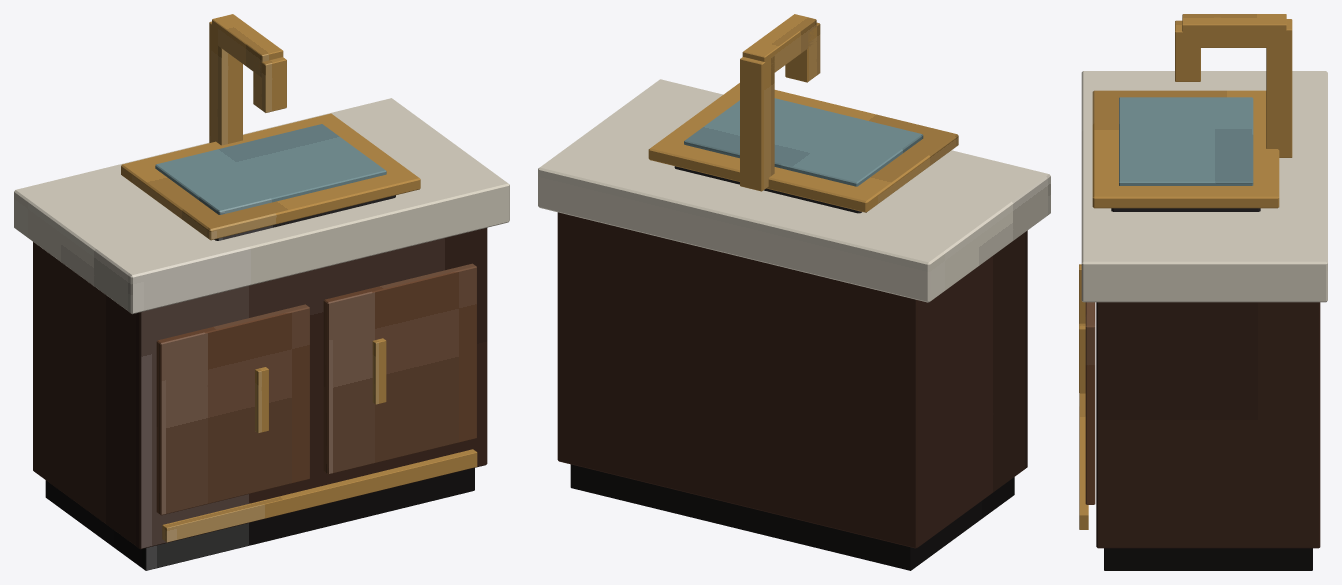
The model's file is luxury_kitchen_sink.glb.
The picture shows the model from 3 angles, left to right: view 1: azimuth 30°, elevation 25°; view 2: azimuth 150°, elevation 25°; view 3: azimuth 270°, elevation 25°; orthographic projection. The views are drawn at different scales.
Parts seen in each view (by area): view 1: SinkCabinet, SinkWorktop, CabinetDoor_2, CabinetDoor_1, BasinOpening, SinkRim, SinkPlinth, GoldPlinthTrim, FaucetPost, FaucetSpout, FaucetDrop, CabinetHandle_2 (+1 smaller); view 2: SinkCabinet, SinkWorktop, SinkPlinth, SinkRim, BasinOpening, FaucetPost, FaucetSpout, FaucetDrop; view 3: SinkCabinet, SinkWorktop, BasinOpening, SinkRim, SinkPlinth, FaucetPost, FaucetSpout, CabinetDoor_2, FaucetDrop, GoldPlinthTrim, SinkBasin, CabinetHandle_2.
Boxes of the visible parts, <box> form: SinkCabinet: <box>33,228,487,549</box>; SinkWorktop: <box>14,98,509,314</box>; CabinetDoor_2: <box>323,263,476,474</box>; CabinetDoor_1: <box>156,304,309,515</box>; BasinOpening: <box>155,124,386,214</box>; SinkRim: <box>121,113,420,240</box>; SinkPlinth: <box>45,468,474,570</box>; GoldPlinthTrim: <box>162,449,477,542</box>; FaucetPost: <box>209,21,242,145</box>; FaucetSpout: <box>212,14,283,77</box>; FaucetDrop: <box>253,57,286,112</box>; CabinetHandle_2: <box>372,338,386,404</box>; SinkCabinet: <box>557,212,1027,548</box>; SinkWorktop: <box>538,79,1050,302</box>; SinkPlinth: <box>570,464,1014,570</box>; SinkRim: <box>648,83,958,212</box>; BasinOpening: <box>684,98,923,186</box>; FaucetPost: <box>740,56,774,191</box>; FaucetSpout: <box>742,14,816,78</box>; FaucetDrop: <box>785,22,820,82</box>; SinkCabinet: <box>1096,302,1320,548</box>; SinkWorktop: <box>1081,71,1327,302</box>; BasinOpening: <box>1119,97,1253,185</box>; SinkRim: <box>1092,90,1279,208</box>; SinkPlinth: <box>1104,548,1312,570</box>; FaucetPost: <box>1266,19,1292,157</box>; FaucetSpout: <box>1182,14,1286,47</box>; CabinetDoor_2: <box>1085,302,1095,504</box>; FaucetDrop: <box>1175,20,1200,81</box>; GoldPlinthTrim: <box>1079,393,1088,529</box>; SinkBasin: <box>1111,208,1260,211</box>; CabinetHandle_2: <box>1079,323,1085,393</box>.
Bounding box in the file's own units: 1.22 × 1.39 × 0.6665.
1 material, 1 textured.
